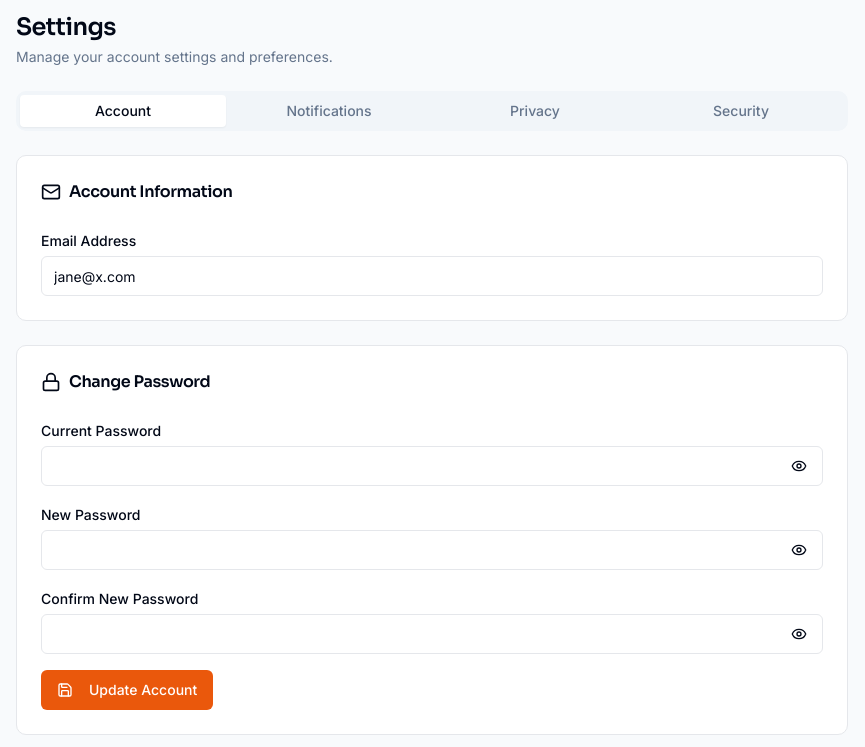
Scenario: Settings › shows the agency-specific Project Updates notification toggle
Expected: the field showing "jane@x.com" is shown, [41,256,823,296]
Click the tab "Notifications": (329, 111) [226,95,432,127]
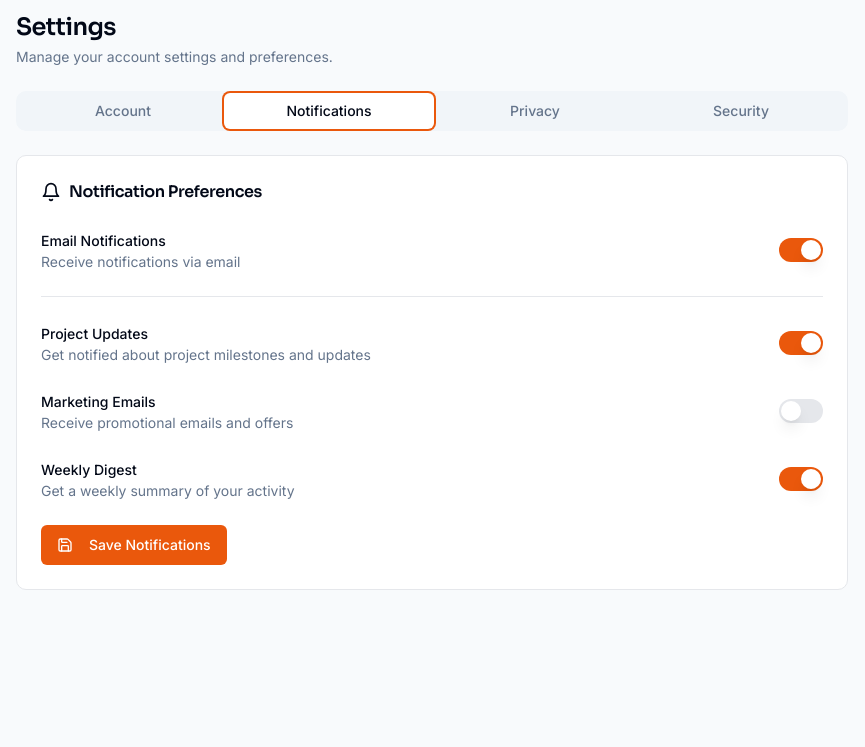
Expected: the text "Project Updates" is shown, [41,325,148,342]
